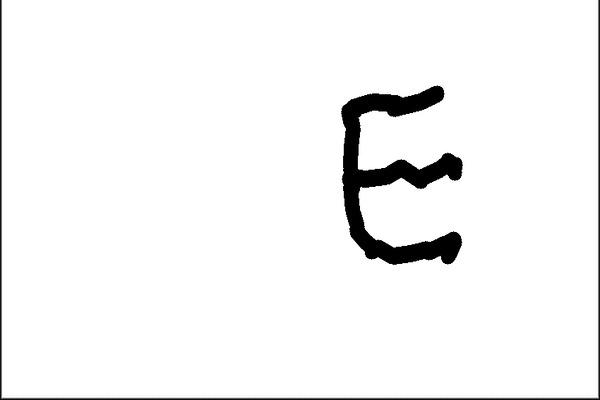E: (337, 81, 466, 269)
